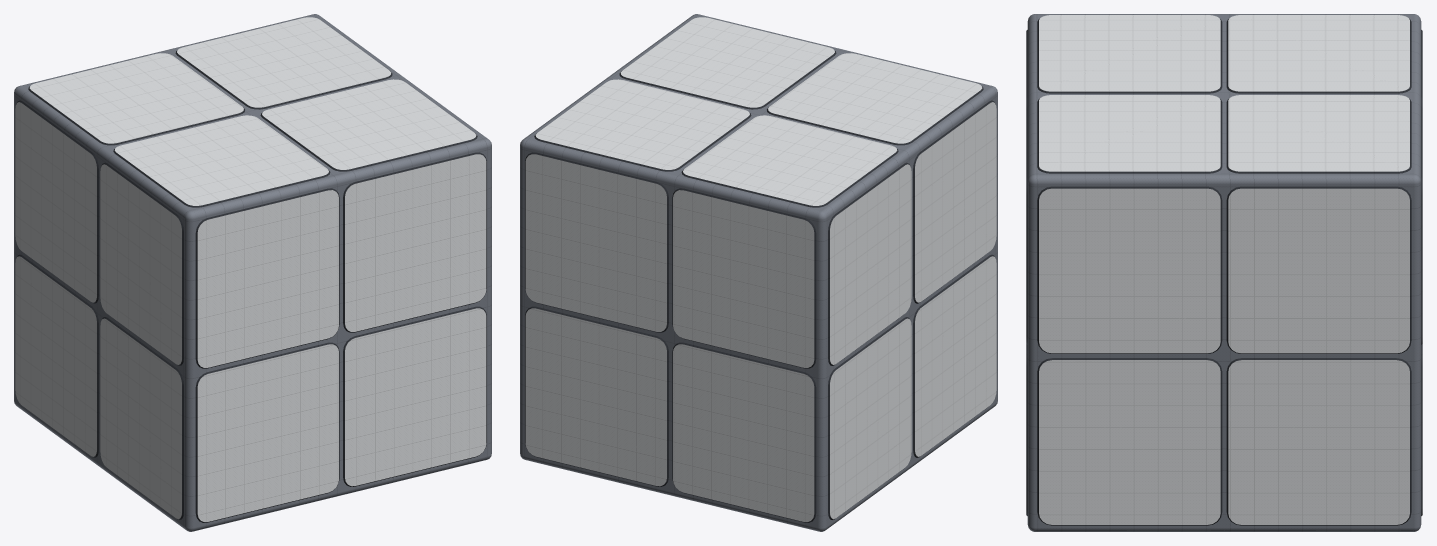
File: R4B_BigCube2.glb
3 renders of one model, left to right at view 1: azimuth 30°, elevation 25°; view 2: azimuth 150°, elevation 25°; view 3: azimuth 270°, elevation 25°, orthographic. The views are drawn at different scales.
Parts seen in each view (by area): view 1: R4B_BigCube2; view 2: R4B_BigCube2; view 3: R4B_BigCube2.
Boxes of the visible parts, <box> form: R4B_BigCube2: <box>14,14,491,531</box>; R4B_BigCube2: <box>520,14,997,531</box>; R4B_BigCube2: <box>1026,14,1422,531</box>.
Size of the model in its own units: 1.07 by 1.07 by 1.07.
3 materials, 3 textured.
